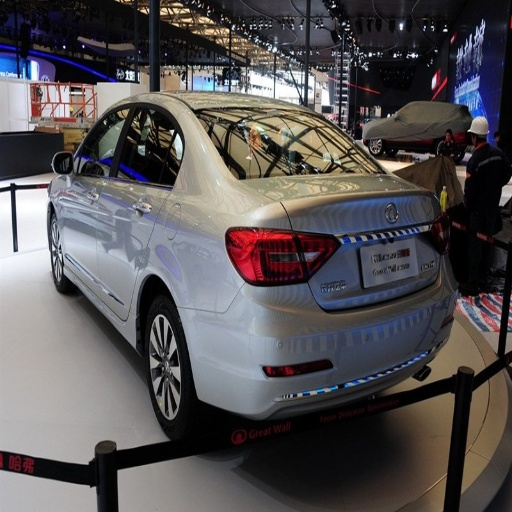back_bumper: (183, 277, 455, 422)
back_glass: (196, 111, 379, 176)
back_left_door: (99, 103, 185, 316)
